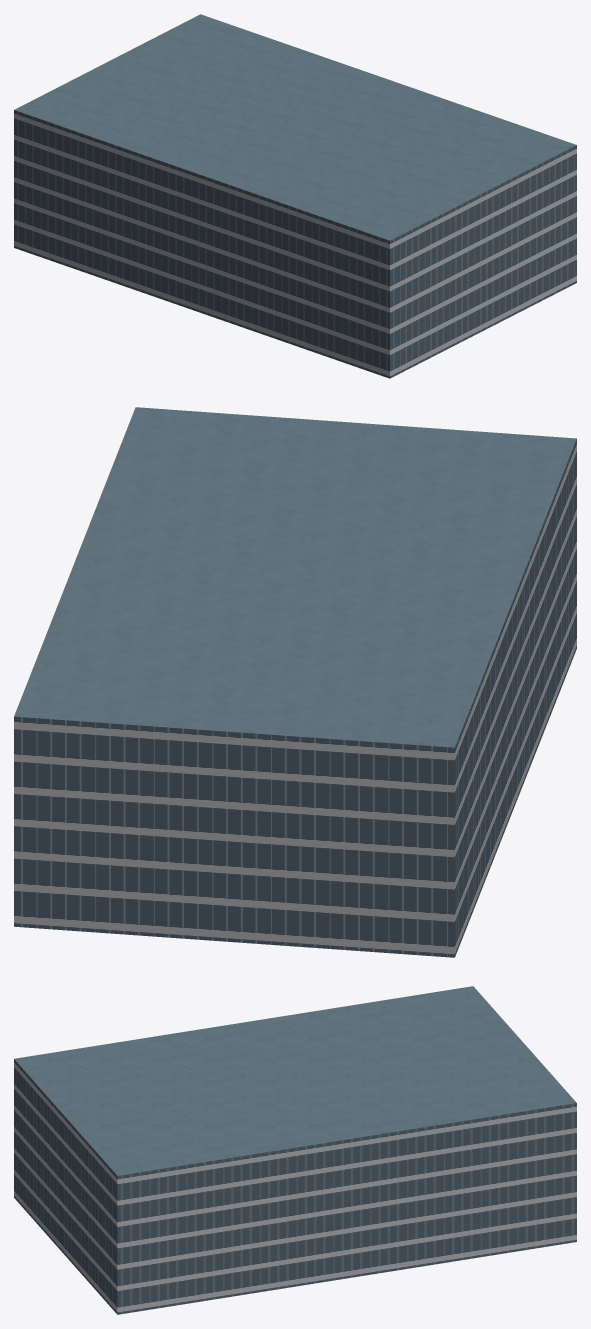
The picture shows the model from 3 angles, top to bottom: view 1: azimuth 30°, elevation 25°; view 2: azimuth 150°, elevation 25°; view 3: azimuth 270°, elevation 25°; orthographic projection. The views are drawn at different scales.
Parts seen in each view (by area): view 1: hospital-cancer; view 2: hospital-cancer; view 3: hospital-cancer.
Boxes of the visible parts, x1,y1,x2,y2 form: hospital-cancer: [14, 14, 576, 378]; hospital-cancer: [14, 407, 576, 957]; hospital-cancer: [14, 986, 576, 1314].
Size of the model in its own units: 68.58 by 23.4 by 85.95.
Materials: 2 (2 with a texture image).
